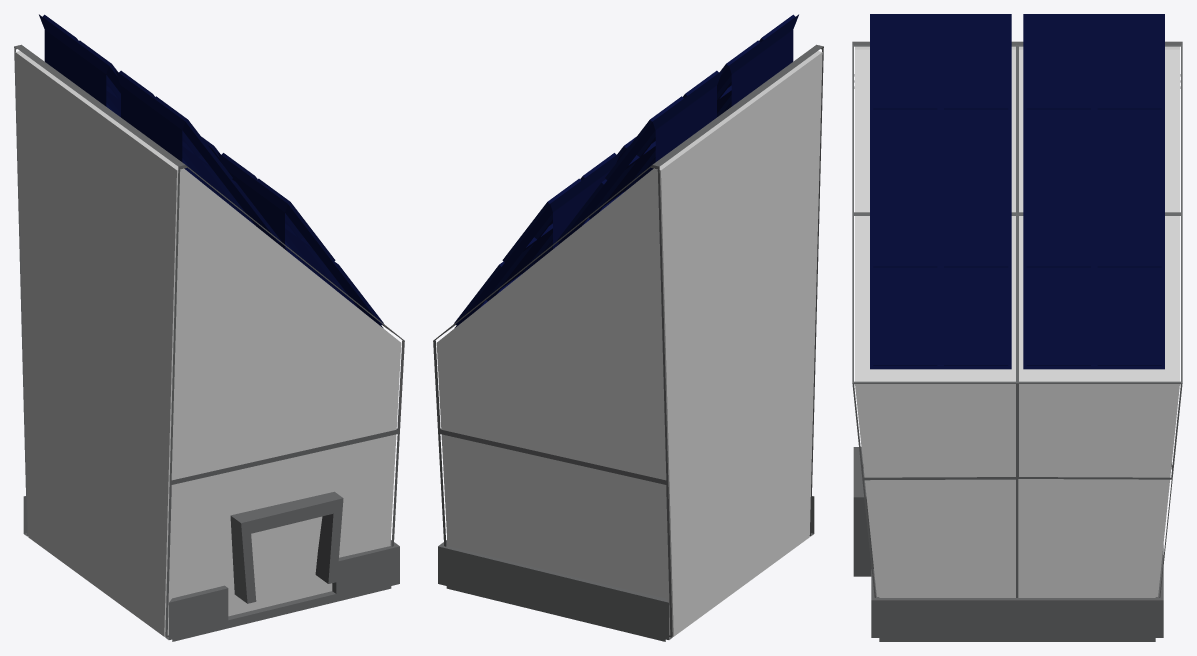
File: 农大棚3.fbx
The picture shows the model from 3 angles, left to right: view 1: azimuth 30°, elevation 25°; view 2: azimuth 150°, elevation 25°; view 3: azimuth 270°, elevation 25°; orthographic projection.
Visible parts, largest first — view 1: 立方体.027; view 2: 立方体.027; view 3: 立方体.027.
Part boxes in pixels (x1,y1,x2,y2): 立方体.027: (14,14,404,641); 立方体.027: (433,14,823,641); 立方体.027: (852,14,1182,641).
Size of the model in its own units: 116 by 249 by 142.
